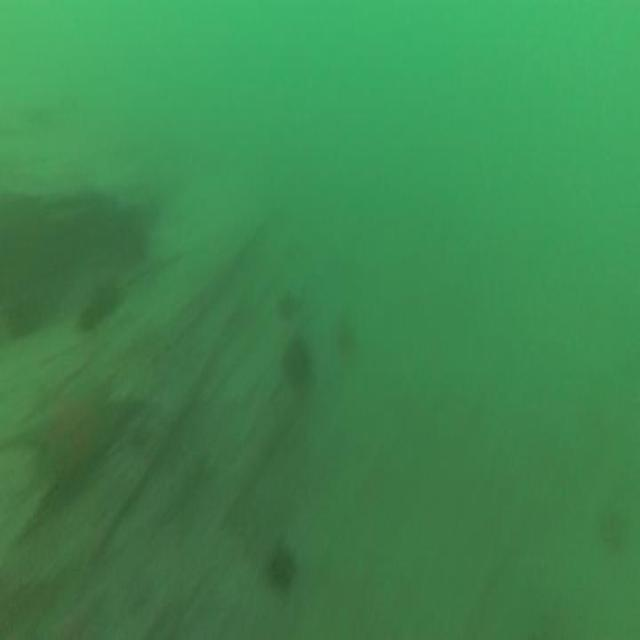echinus: (74, 275, 124, 335), (594, 493, 634, 561), (6, 284, 44, 344), (264, 540, 299, 600), (280, 332, 313, 395), (332, 311, 358, 357), (274, 285, 302, 327)
starfish: (5, 373, 145, 507)
